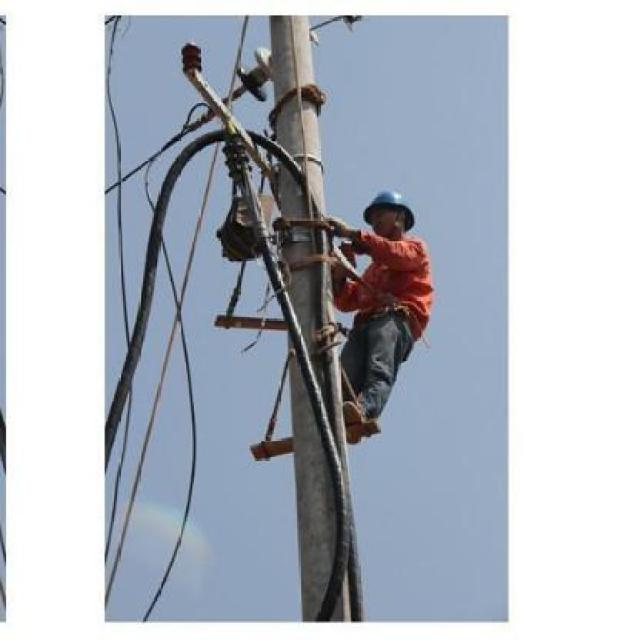helmet: (357, 185, 418, 243)
